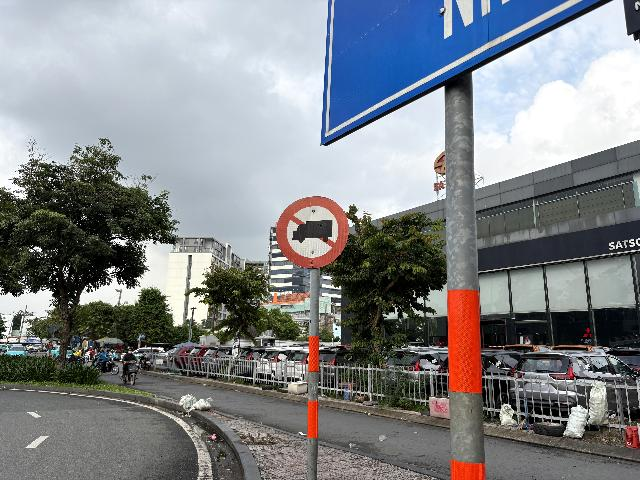cam-xe-tai: (276, 196, 350, 269)
